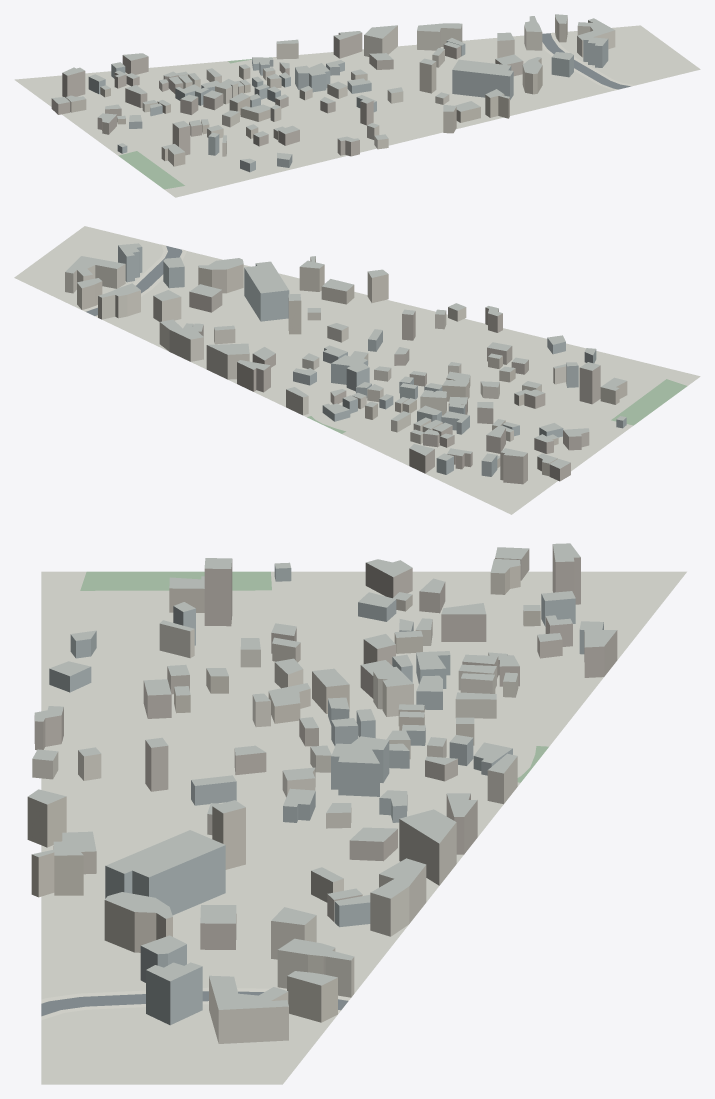
The picture shows the model from 3 angles, top to bottom: view 1: azimuth 30°, elevation 25°; view 2: azimuth 150°, elevation 25°; view 3: azimuth 270°, elevation 25°; orthographic projection. The views are drawn at different scales.
Parts seen in each view (by area): view 1: city; view 2: city; view 3: city.
Part boxes in pixels (x1=…): city: x1=14, y1=14, x2=700, y2=197; city: x1=14, y1=226, x2=700, y2=514; city: x1=27, y1=543, x2=686, y2=1084.
Bounding box in the file's own units: 503 × 26 × 272.
